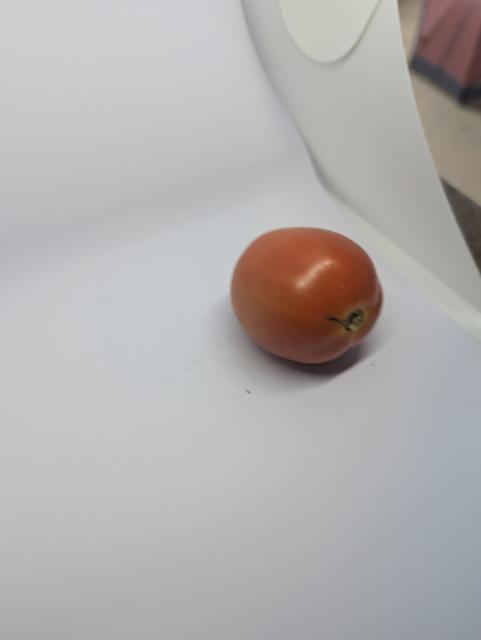red: (223, 211, 391, 380)
